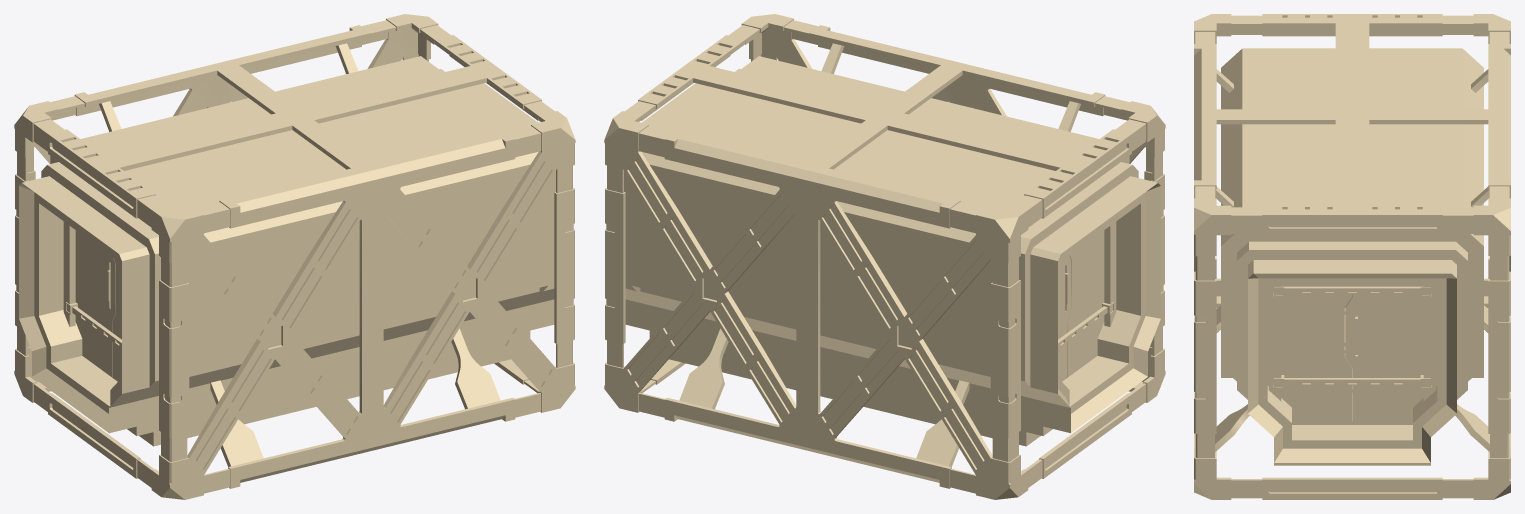
File: cargo_box8.fbx
The picture shows the model from 3 angles, left to right: view 1: azimuth 30°, elevation 25°; view 2: azimuth 150°, elevation 25°; view 3: azimuth 270°, elevation 25°; orthographic projection.
Visible parts, largest first — view 1: cage2.003, Cube.015, Cube.015_Piece.001, rope, Cube.016; view 2: cage2.003, Cube.015, Cube.015_Piece.001, rope, Cube.016; view 3: Cube.015, cage2.003, Cube.015_Piece.001, Cube.016, rope.
Part boxes in pixels (x1,y1,x2,y2): cage2.003: [14, 14, 575, 499]; Cube.015: [19, 56, 555, 446]; Cube.015_Piece.001: [75, 230, 121, 381]; rope: [99, 43, 500, 466]; Cube.016: [63, 221, 121, 348]; cage2.003: [604, 14, 1165, 499]; Cube.015: [624, 56, 1160, 446]; Cube.015_Piece.001: [1058, 230, 1104, 381]; rope: [679, 43, 1080, 466]; Cube.016: [1058, 221, 1116, 348]; Cube.015: [1221, 48, 1483, 465]; cage2.003: [1194, 14, 1510, 499]; Cube.015_Piece.001: [1267, 286, 1437, 424]; Cube.016: [1268, 286, 1436, 401]; rope: [1215, 69, 1489, 451].
Bounding box in the file's own units: 85.34 × 50.91 × 51.31.
